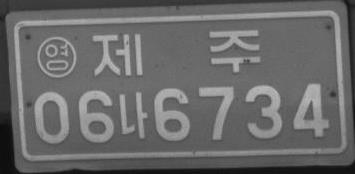0: (33, 90, 70, 145)
3: (245, 83, 283, 140)
4: (293, 81, 328, 138)
6: (152, 86, 190, 142), (77, 89, 115, 144)
7: (197, 84, 236, 140)
나: (118, 90, 147, 139)
영: (36, 35, 77, 79)
제주_D: (91, 29, 261, 77)
